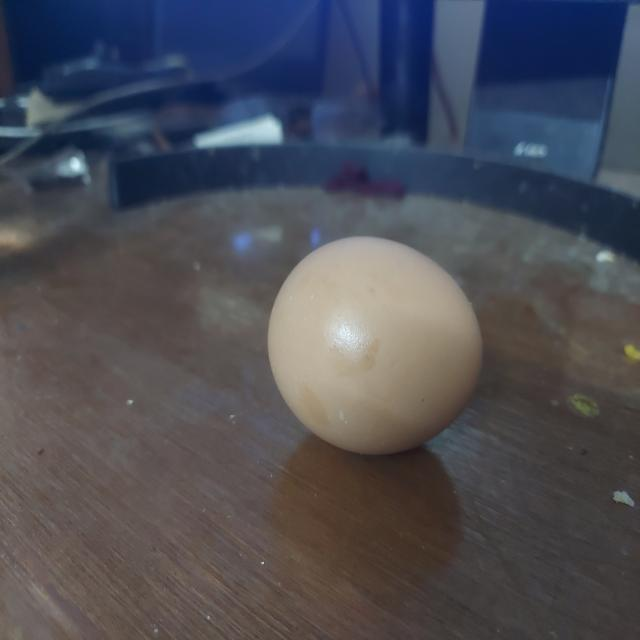egg: (264, 228, 492, 463)
